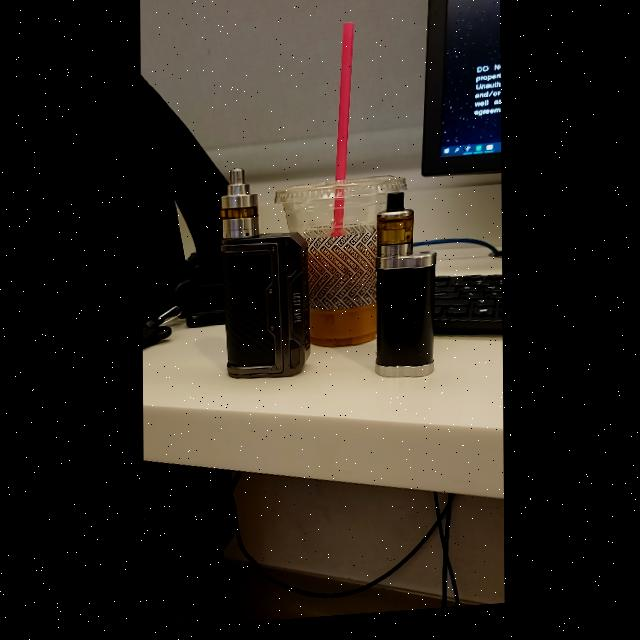vape: (220, 168, 311, 386), (372, 195, 438, 386)
